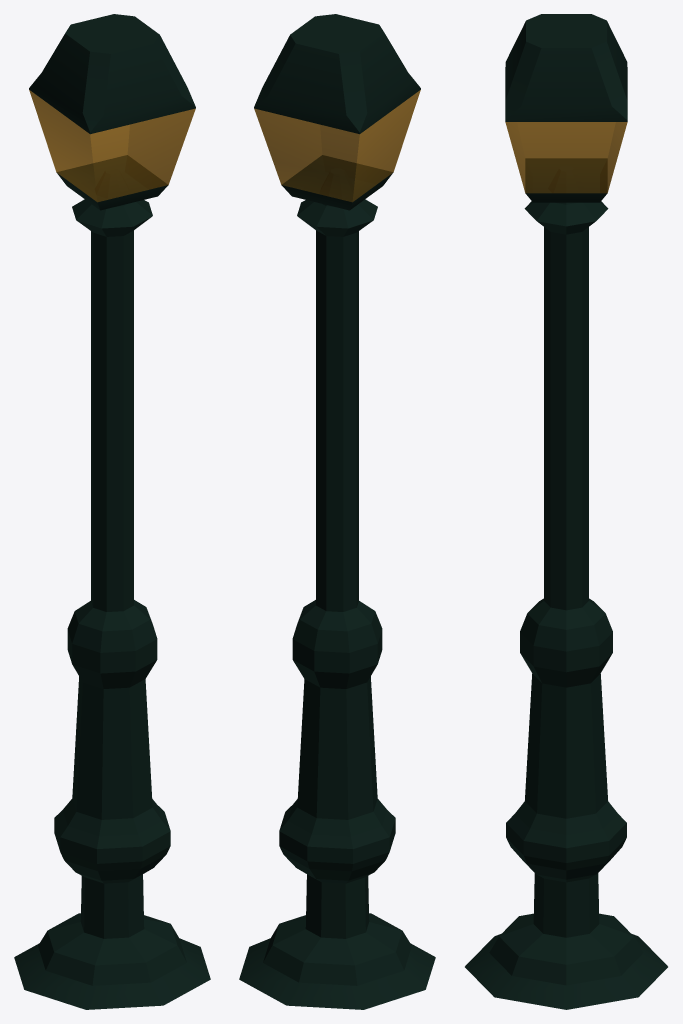
Rendered from Liz_street_lamp.FBX.
The picture shows the model from 3 angles, left to right: view 1: azimuth 30°, elevation 25°; view 2: azimuth 150°, elevation 25°; view 3: azimuth 270°, elevation 25°; orthographic projection.
Visible parts, largest first — view 1: Cylinder001, Box001; view 2: Cylinder001, Box001; view 3: Cylinder001, Box001.
Part boxes in pixels (left/top/right/bottom): Cylinder001: left=14, top=168, right=210, bottom=1009; Box001: left=29, top=14, right=195, bottom=210; Cylinder001: left=239, top=168, right=435, bottom=1009; Box001: left=254, top=14, right=420, bottom=210; Cylinder001: left=465, top=165, right=667, bottom=1009; Box001: left=505, top=14, right=627, bottom=202.
Bounding box in the file's own units: 26.41 × 134 × 26.41.
